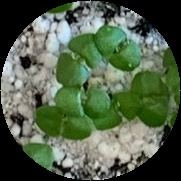Basil: (34, 104, 91, 142), (57, 35, 98, 87), (131, 73, 170, 126), (98, 26, 140, 70), (93, 93, 141, 129), (54, 84, 113, 113)
